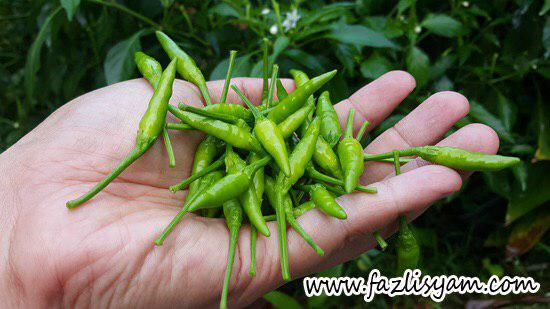lada hijau: (171, 167, 260, 218), (135, 59, 180, 156), (172, 107, 258, 155), (407, 143, 531, 175), (278, 119, 325, 203), (272, 62, 341, 119), (156, 30, 211, 84), (251, 106, 290, 176), (314, 84, 345, 147), (337, 137, 370, 194), (308, 180, 347, 228)
